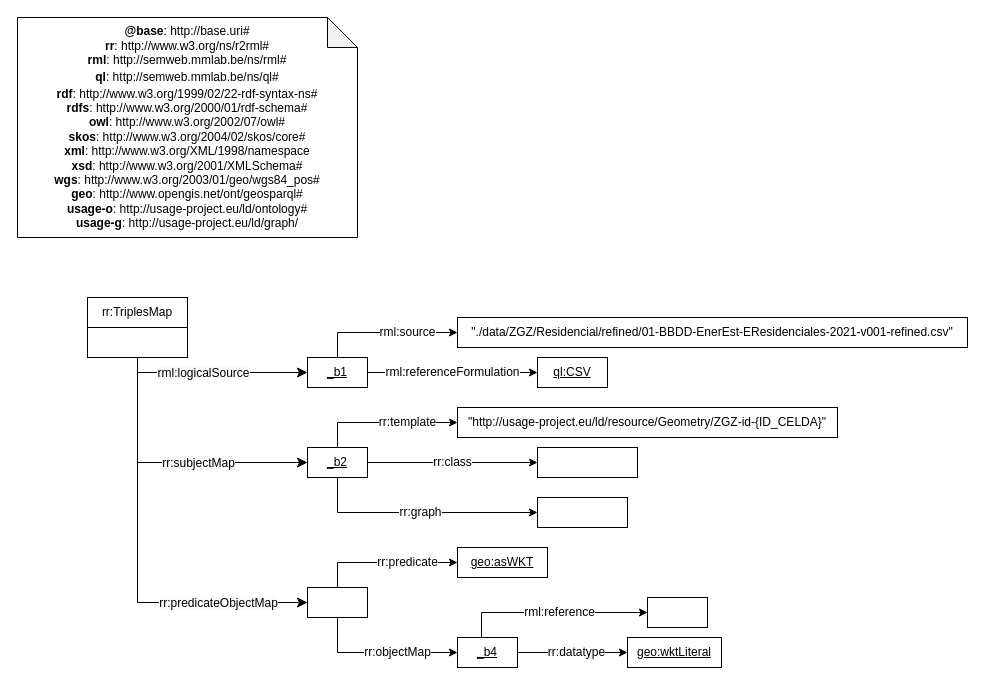
Some shapes in this 985 by 685 pixel diagram are drawn without their labels. The centre of each missing label's shape, as x and y in pixels:
"asWkt": [677,612]
<#Geometry>: [137,342]
_b3: [337,602]
geo:Geometry: [587,462]
usage-g:ZGZ: [582,512]
